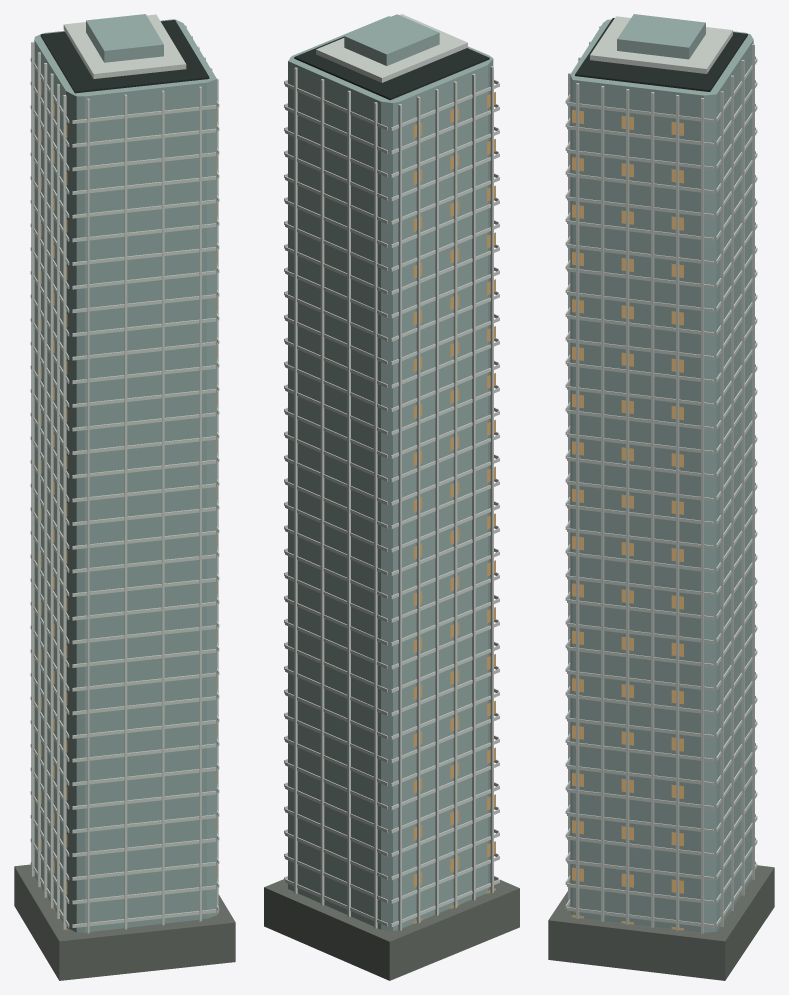
File: andaz.glb
The picture shows the model from 3 angles, left to right: view 1: azimuth 30°, elevation 25°; view 2: azimuth 150°, elevation 25°; view 3: azimuth 270°, elevation 25°; orthographic projection.
Visible parts, largest first — view 1: envelope, fins, floor_bands, podium, roof_deck, crown_box.001, crown_box, night_windows; view 2: envelope, fins, floor_bands, podium, night_windows, roof_deck, crown_box.001, crown_box; view 3: envelope, fins, floor_bands, podium, night_windows, roof_deck, crown_box, crown_box.001.
Part boxes in pixels (x1,y1,x2,y2): envelope: (34, 19, 216, 932); fins: (31, 25, 218, 933); floor_bands: (30, 58, 219, 927); podium: (14, 864, 235, 980); roof_deck: (40, 20, 209, 93); crown_box.001: (86, 14, 163, 62); crown_box: (63, 14, 186, 78); night_windows: (40, 81, 217, 930); envelope: (288, 16, 493, 930); fins: (290, 57, 493, 930); floor_bands: (284, 79, 499, 927); podium: (264, 879, 519, 980); night_windows: (413, 92, 495, 923); roof_deck: (294, 36, 489, 100); crown_box.001: (344, 14, 439, 65); crown_box: (316, 14, 467, 82); envelope: (570, 19, 753, 932); fins: (568, 26, 754, 933); floor_bands: (565, 56, 757, 927); podium: (548, 865, 774, 980); night_windows: (572, 110, 683, 930); roof_deck: (575, 18, 747, 91); crown_box: (590, 16, 732, 73); crown_box.001: (617, 14, 705, 59).
Bounding box in the file's own units: 57.1 × 252 × 57.38.
